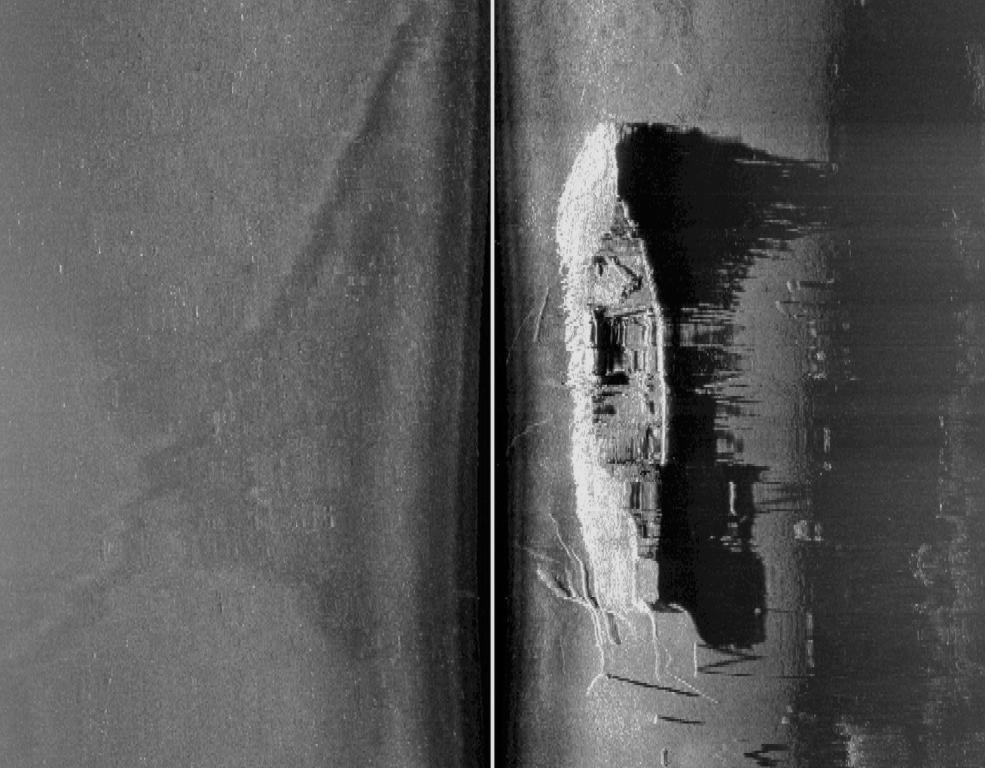ship: (554, 119, 672, 615)
